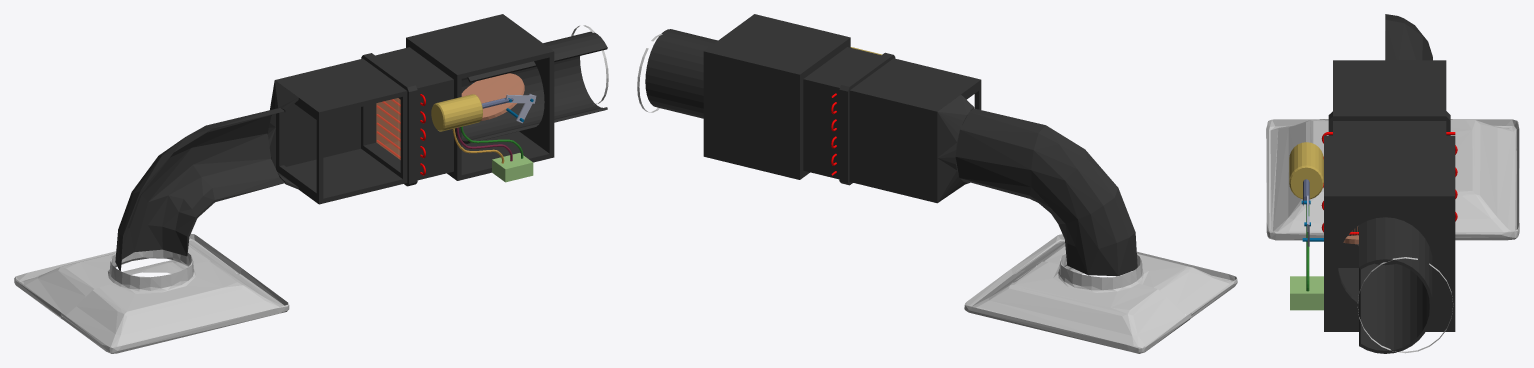
Rendered from diffuser_3_from_ductwork3b-pYpZ.obj.
3 views of the same model, side by side, from view 1: azimuth 30°, elevation 25°; view 2: azimuth 150°, elevation 25°; view 3: azimuth 270°, elevation 25° (orthographic). The views are drawn at different scales.
Visible parts, largest first — view 1: Diffuser01_DiffuserGeom; view 2: Diffuser01_DiffuserGeom; view 3: Diffuser01_DiffuserGeom.
Part boxes in pixels (x1,y1,x2,y2): Diffuser01_DiffuserGeom: (14,14,608,353); Diffuser01_DiffuserGeom: (637,14,1237,353); Diffuser01_DiffuserGeom: (1266,14,1519,353).
Bounding box in the file's own units: 3.02 × 1.03 × 0.966.
